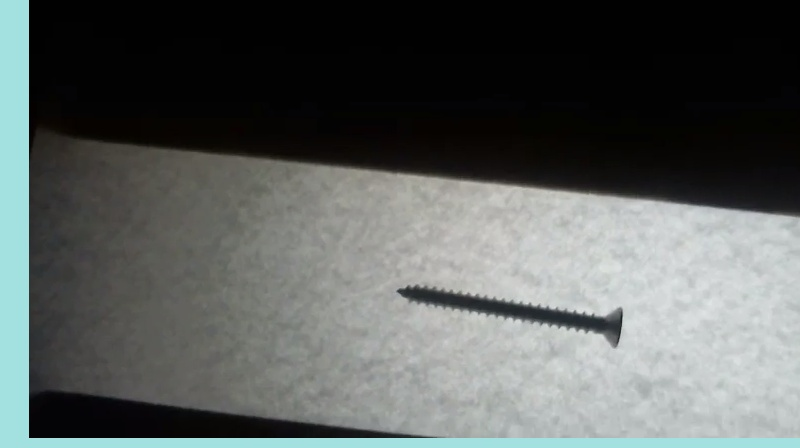S002: (391, 283, 624, 352)
